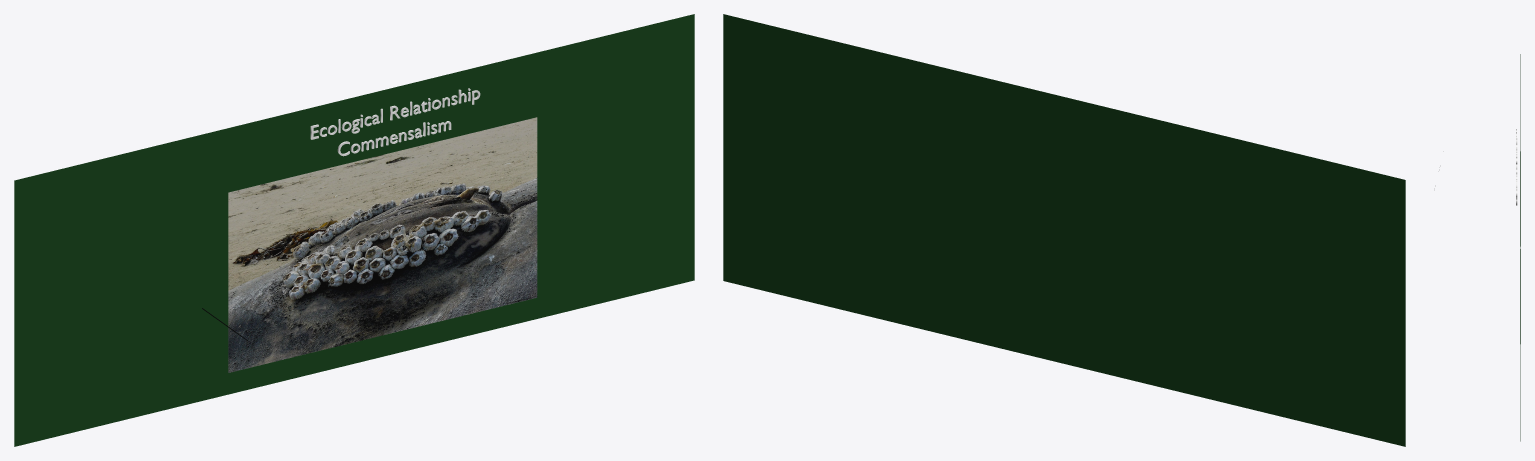
The model's file is commensalism.gltf.
The picture shows the model from 3 angles, left to right: view 1: azimuth 30°, elevation 25°; view 2: azimuth 150°, elevation 25°; view 3: azimuth 270°, elevation 25°; orthographic projection. The views are drawn at different scales.
Parts seen in each view (by area): view 1: Plane.013, Plane, Text.008, Text.001; view 2: Plane.013; view 3: Plane.013, Text.008.
Part boxes in pixels (box(x1,y1,x2,y2)): Plane.013: box(14, 14, 694, 446); Plane: box(228, 117, 537, 372); Text.008: box(310, 88, 480, 139); Text.001: box(337, 121, 451, 156); Plane.013: box(723, 14, 1405, 446); Plane.013: box(1520, 54, 1520, 441); Text.008: box(1516, 129, 1517, 199).
Size of the model in its own units: 15.94 by 5.96 by 2.43.
Materials: 5 (1 with a texture image).
